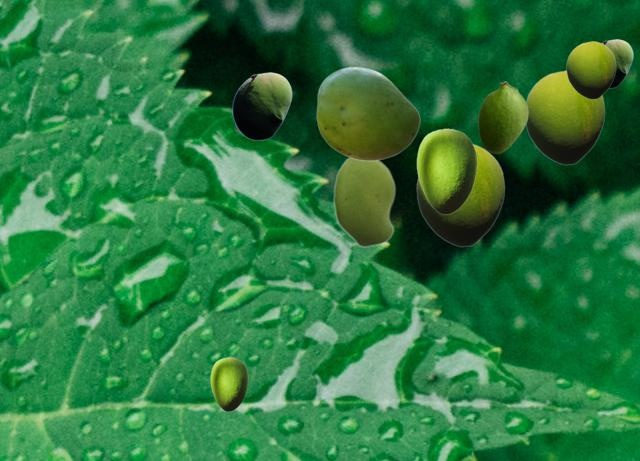green_mango: (316, 66, 419, 160), (416, 143, 504, 246), (526, 70, 604, 164), (333, 158, 395, 247), (416, 128, 476, 213), (232, 72, 291, 139), (478, 81, 527, 152), (566, 41, 615, 98), (210, 357, 247, 410), (602, 39, 632, 87)
